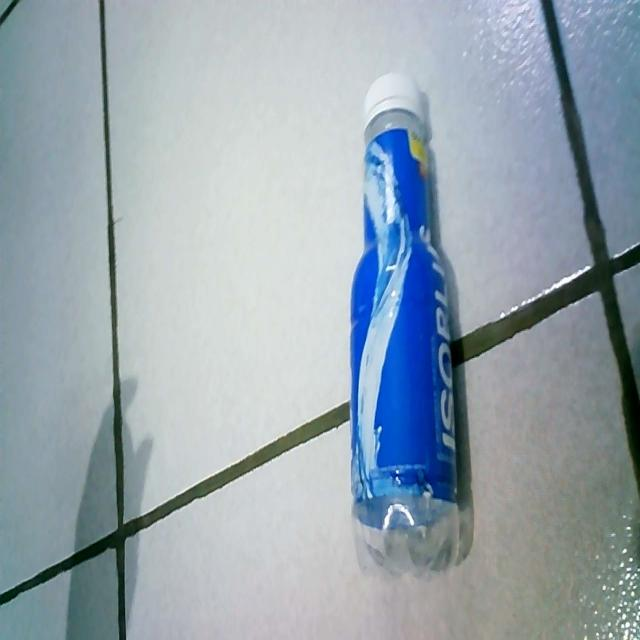botol: (323, 64, 477, 586)
